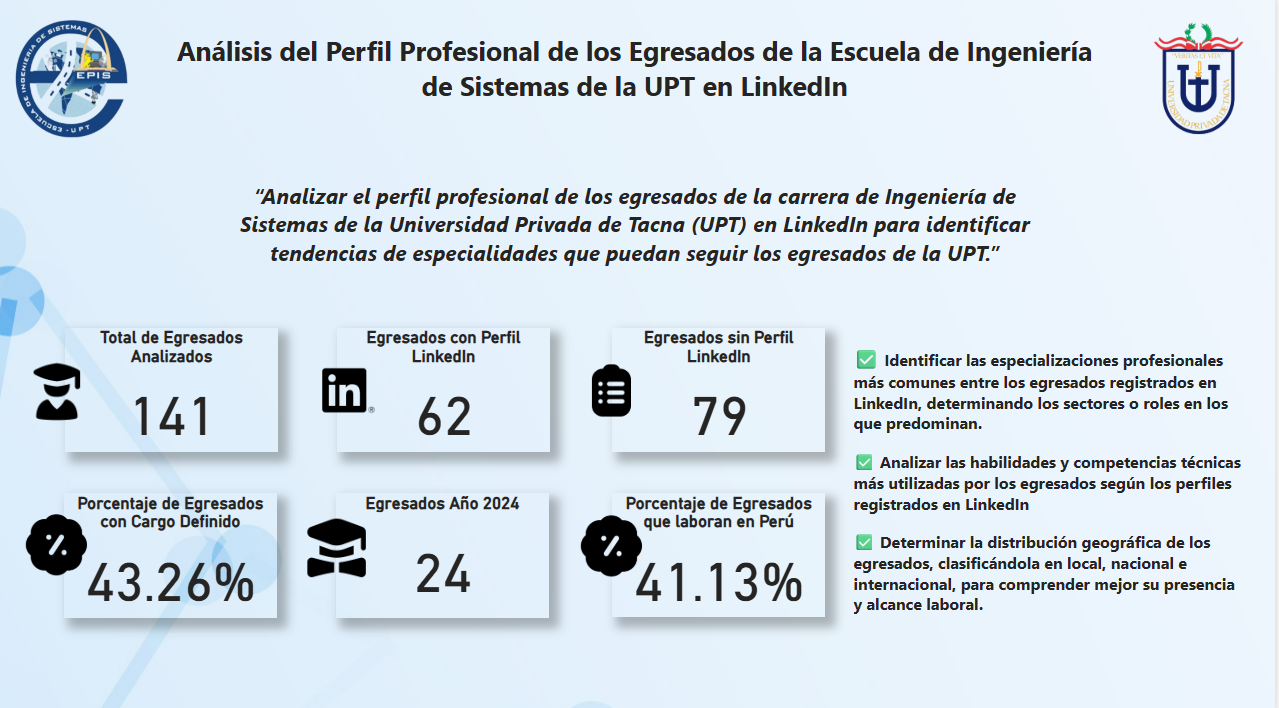

The page's visual inventory and layout, read from the dashboard file:
{"tool":"powerbi","page":{"name":"Página 4","canvas":[1280,720],"ordinal":0},"visuals":[{"type":"textbox","box":[159.2,31.6,960.5,100.3],"z":0},{"type":"image","box":[1144.8,20.7,118.8,122.1],"z":1000},{"type":"image","box":[8.7,18.5,127.6,127.6],"z":2000},{"type":"textbox","box":[207.1,178.8,865.7,113.4],"z":3000},{"type":"card","title":"Total de Egresados Analizados","fields":{"Values":["egresados.EgresadosAcumulados"]},"box":[68.5,332.1,213.7,124.7],"z":4000},{"type":"card","title":"Egresados con Perfil LinkedIn","fields":{"Values":["egresados.EgresadosConLinkedIn"]},"box":[340.8,332.1,213.7,124.7],"z":5000},{"type":"card","title":"Egresados sin Perfil LinkedIn","fields":{"Values":["egresados.EgresadosSinLinkedIn"]},"box":[616.9,332.1,213.7,124.7],"z":6000},{"type":"card","title":"Egresados Año 2024","fields":{"Values":["egresados.EgresadosUltimoAnio"]},"box":[340.2,497.5,213.8,125],"z":7000},{"type":"card","title":"Porcentaje de Egresados con Cargo Definido","fields":{"Values":["egresados.PorcentajeConCargo"]},"box":[67.7,497.5,213.8,125],"z":8000},{"type":"card","title":"Porcentaje de Egresados que laboran en Perú","fields":{"Values":["ubicaciones.PorcentajeEgresadosEnPeru"]},"box":[616.9,497.5,213.7,124.7],"z":9000},{"type":"image","box":[316.4,363.7,72.5,62.5],"z":10000},{"type":"image","box":[23.9,513.7,72.5,71.2],"z":11000},{"type":"image","box":[580.2,515,72.5,71.2],"z":12000},{"type":"image","box":[580.2,363.7,72.5,62.5],"z":13000},{"type":"image","box":[23.9,357.5,72.5,76.2],"z":14000},{"type":"image","box":[303.9,517.5,72.5,68.8],"z":15000},{"type":"textbox","box":[853.8,345,401.2,305],"z":16000}]}

Visuals, with their boxes in screenshot pixels (x1, y1, x2, y2), scaled from the page's 1280x720 canvas onto the 1279x708 screenshot:
textbox: locate(159, 31, 1119, 130)
image: locate(1144, 20, 1263, 140)
image: locate(9, 18, 136, 144)
textbox: locate(207, 176, 1072, 287)
"Total de Egresados Analizados" card: locate(68, 327, 282, 449)
"Egresados con Perfil LinkedIn" card: locate(341, 327, 554, 449)
"Egresados sin Perfil LinkedIn" card: locate(616, 327, 830, 449)
"Egresados Año 2024" card: locate(340, 489, 554, 612)
"Porcentaje de Egresados con Cargo Definido" card: locate(68, 489, 281, 612)
"Porcentaje de Egresados que laboran en Perú" card: locate(616, 489, 830, 612)
image: locate(316, 358, 389, 419)
image: locate(24, 505, 96, 575)
image: locate(580, 506, 652, 576)
image: locate(580, 358, 652, 419)
image: locate(24, 352, 96, 426)
image: locate(304, 509, 376, 577)
textbox: locate(853, 339, 1254, 639)
